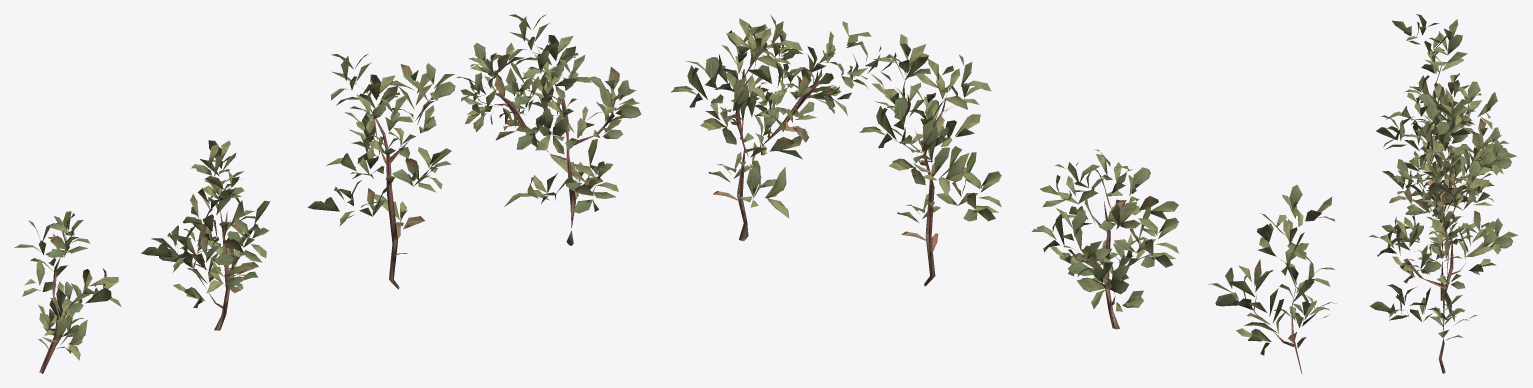
The model's file is shrub_04.glb.
3 renders of one model, left to right at view 1: azimuth 30°, elevation 25°; view 2: azimuth 150°, elevation 25°; view 3: azimuth 270°, elevation 25°, orthographic. The views are drawn at different scales.
Visible parts, largest first — view 1: shrub_04; view 2: shrub_04; view 3: shrub_04.
Boxes of the visible parts, x1,y1,x2,y2 form: shrub_04: [14, 14, 641, 373]; shrub_04: [671, 14, 1336, 373]; shrub_04: [1368, 14, 1518, 373].
Bounding box in the file's own units: 0.5837 × 0.2185 × 0.1461.
1 material, 1 textured.
